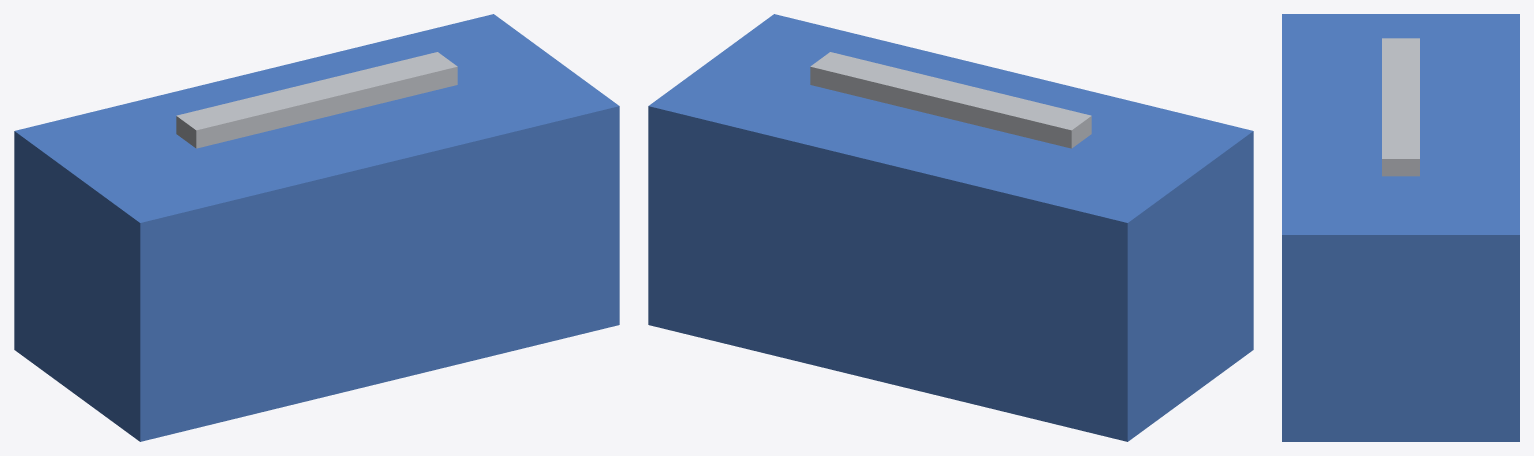
The model's file is toolbox_small.glb.
3 renders of one model, left to right at view 1: azimuth 30°, elevation 25°; view 2: azimuth 150°, elevation 25°; view 3: azimuth 270°, elevation 25°, orthographic. The views are drawn at different scales.
Visible parts, largest first — view 1: toolbox_small; view 2: toolbox_small; view 3: toolbox_small.
Part boxes in pixels (x1=…): toolbox_small: x1=14, y1=14, x2=619, y2=441; toolbox_small: x1=648, y1=14, x2=1253, y2=441; toolbox_small: x1=1282, y1=14, x2=1519, y2=441.
Size of the model in its own units: 0.55 by 0.27 by 0.25.
